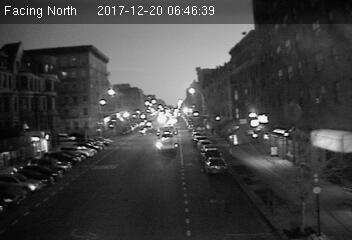bus: (155, 126, 180, 152)
car: (205, 157, 227, 175)
